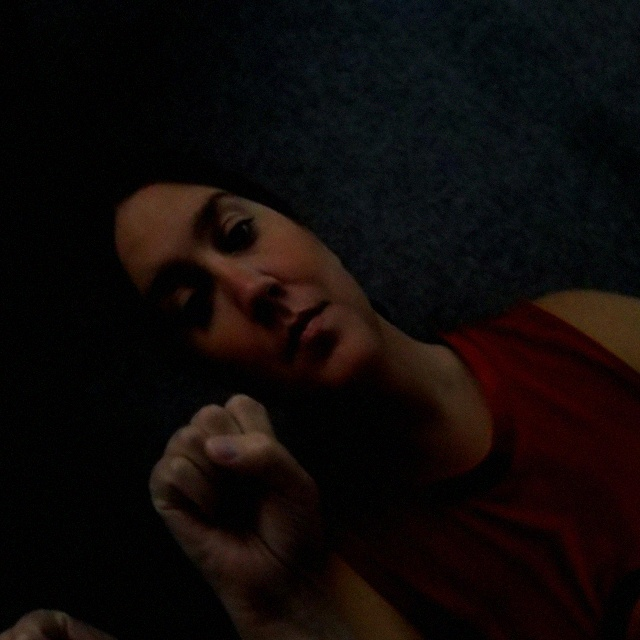Rock: (78, 344, 411, 640)
